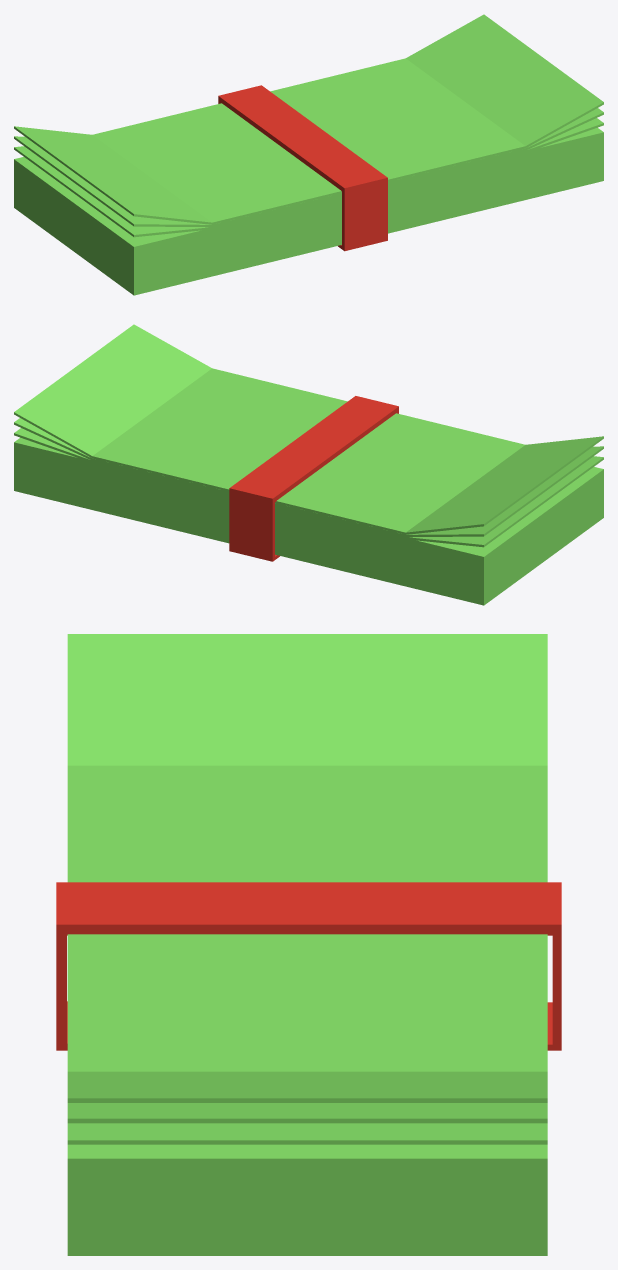
The model's file is pandemonium_money.fbx.
3 views of the same model, one above another, from view 1: azimuth 30°, elevation 25°; view 2: azimuth 150°, elevation 25°; view 3: azimuth 270°, elevation 25° (orthographic). The views are drawn at different scales.
Visible parts, largest first — view 1: Plane.011; view 2: Plane.011; view 3: Plane.011.
Boxes of the visible parts, x1,y1,x2,y2 form: Plane.011: (14, 14, 603, 295); Plane.011: (14, 324, 603, 605); Plane.011: (56, 634, 561, 1255).
Bounding box in the file's own units: 52.42 × 9.15 × 24.4.
